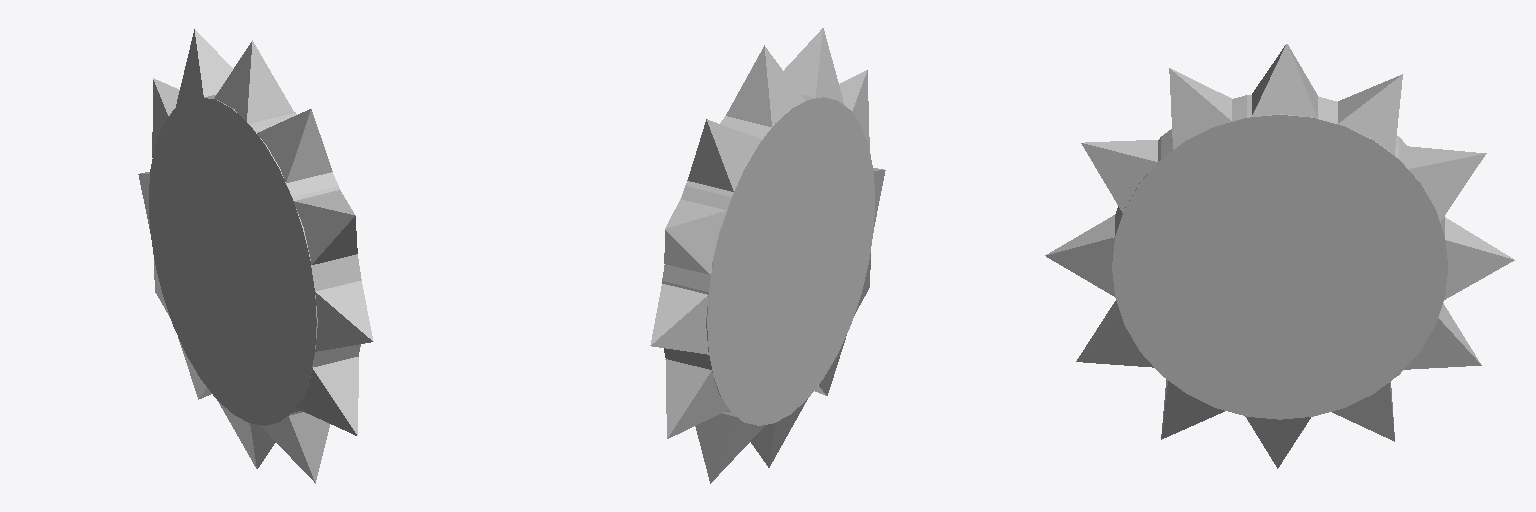
Rendered from Saw.obj.
3 views of the same model, side by side, from view 1: azimuth 30°, elevation 25°; view 2: azimuth 150°, elevation 25°; view 3: azimuth 270°, elevation 25° (orthographic).
Parts seen in each view (by area): view 1: Cylinder, Cube; view 2: Cylinder, Cube; view 3: Cylinder, Cube.
Boxes of the visible parts, x1=… form: Cylinder: x1=149, y1=94, x2=361, y2=425; Cube: x1=138, y1=29, x2=373, y2=483; Cylinder: x1=662, y1=95, x2=874, y2=425; Cube: x1=650, y1=28, x2=885, y2=483; Cylinder: x1=1112, y1=95, x2=1447, y2=419; Cube: x1=1045, y1=44, x2=1514, y2=468.
Size of the model in its own units: 0.1792 by 1.57 by 1.57.